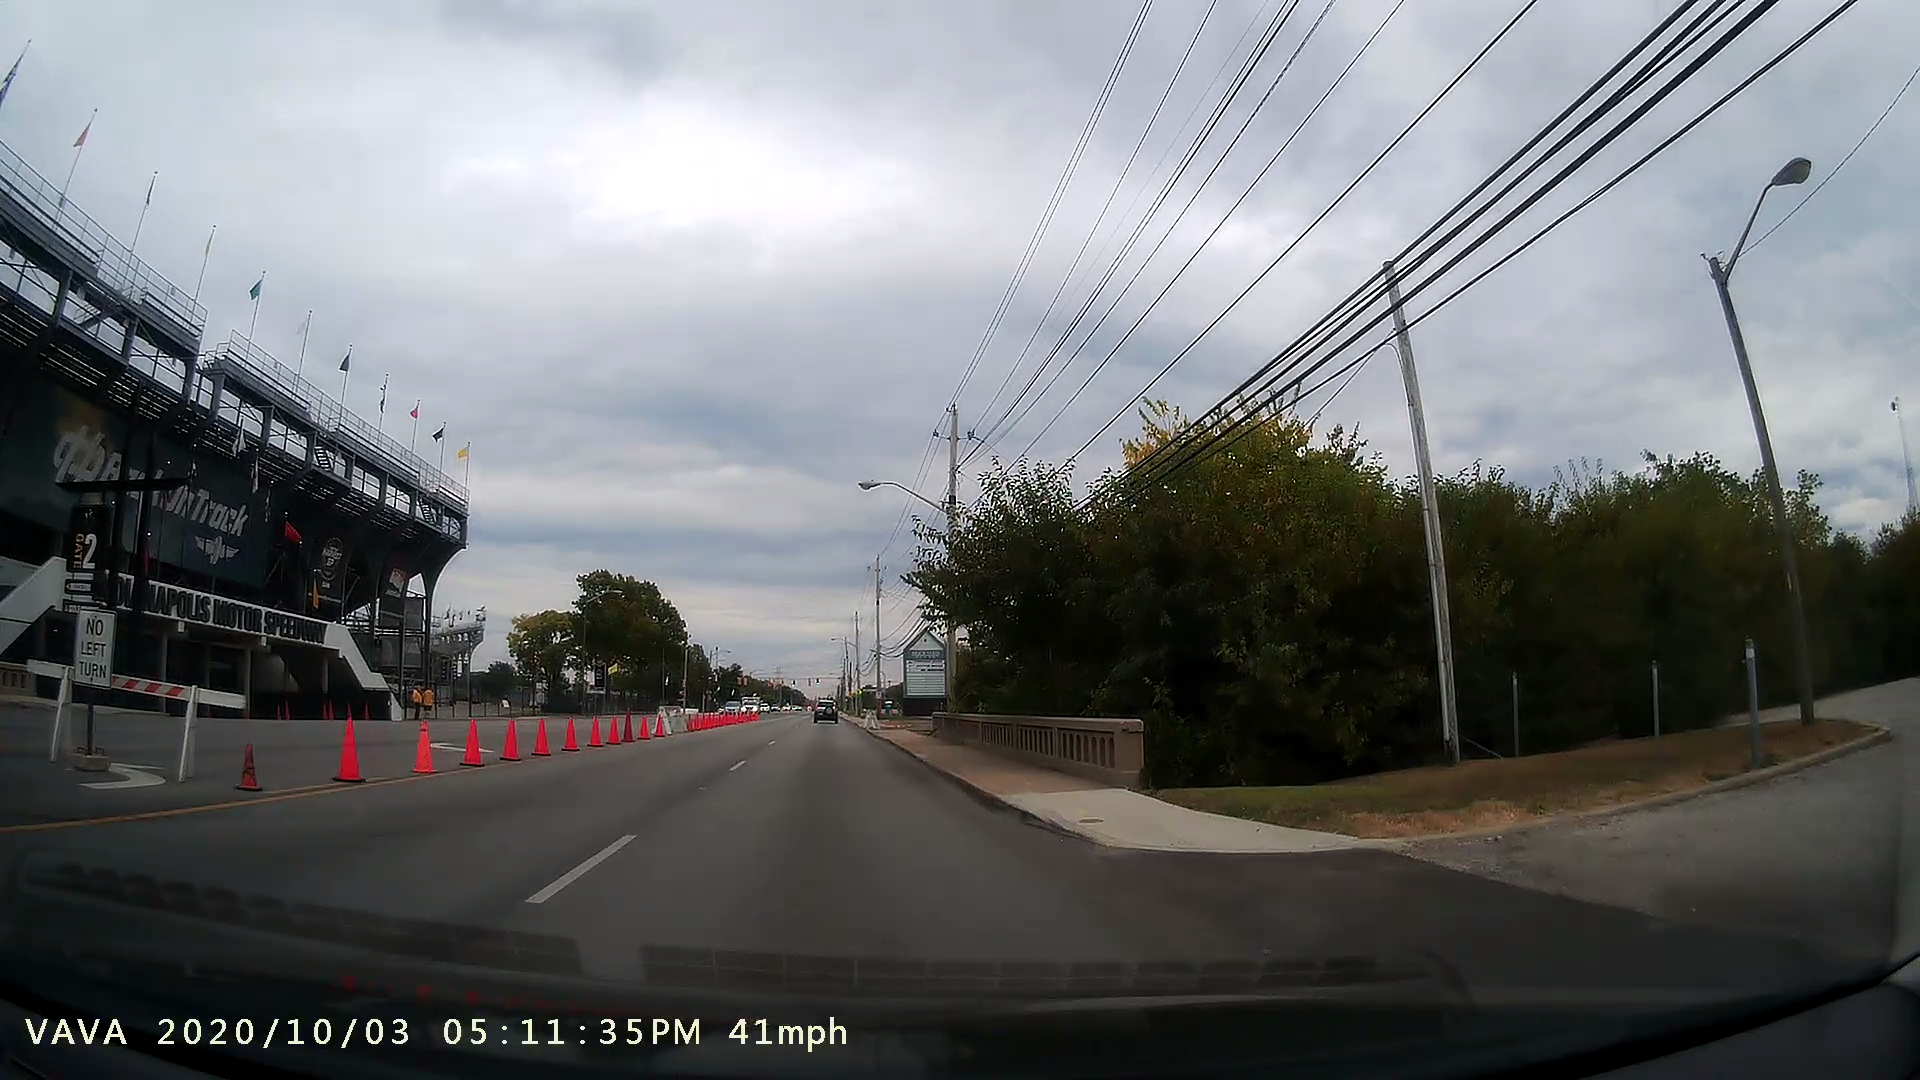const_cone: (315, 700, 378, 789), (456, 704, 497, 774), (409, 712, 442, 783)
